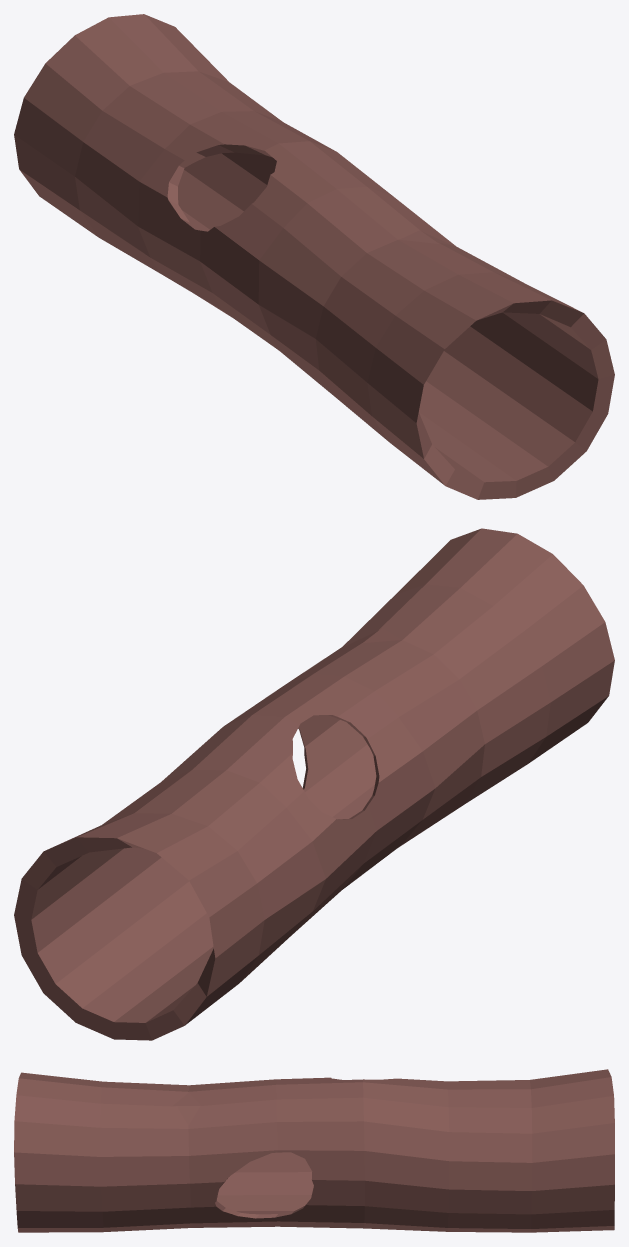
Rendered from Tronco.fbx.
3 renders of one model, top to bottom at view 1: azimuth 30°, elevation 25°; view 2: azimuth 150°, elevation 25°; view 3: azimuth 270°, elevation 25°, orthographic. The views are drawn at different scales.
Parts seen in each view (by area): view 1: Cylinder; view 2: Cylinder; view 3: Cylinder.
Part boxes in pixels (x1,y1,x2,y2): Cylinder: (14,14,614,499); Cylinder: (14,528,614,1040); Cylinder: (14,1069,614,1232).
Size of the model in its own units: 107 by 100 by 368.
